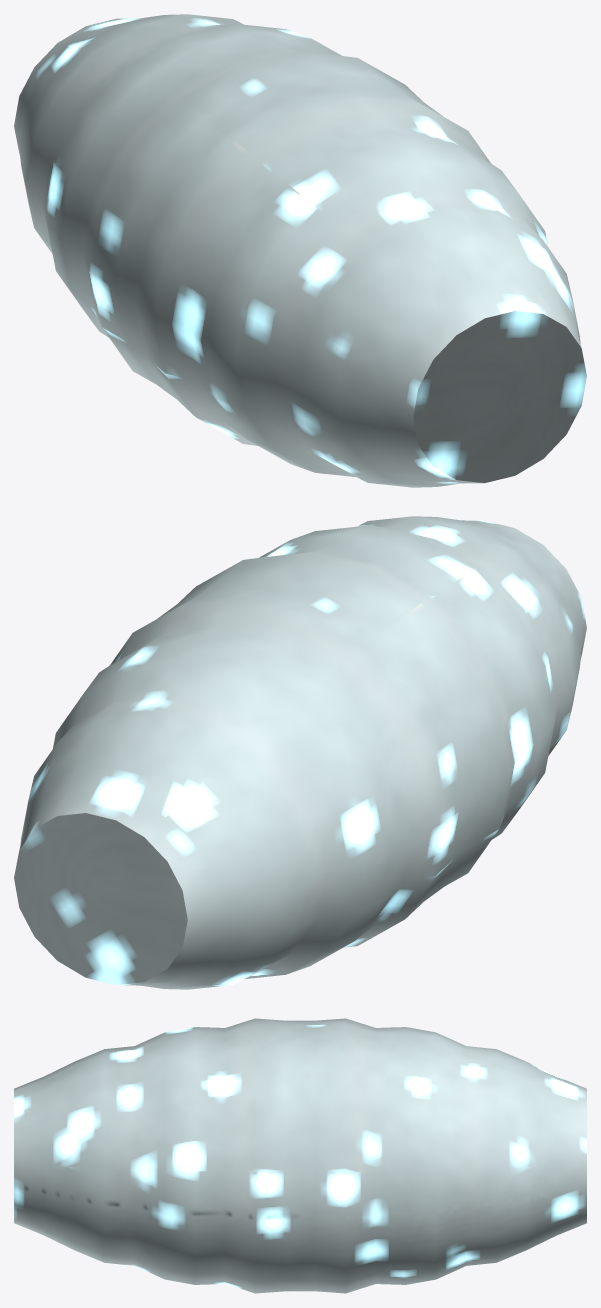
Rendered from salpa_maxima.glb.
3 renders of one model, top to bottom at view 1: azimuth 30°, elevation 25°; view 2: azimuth 150°, elevation 25°; view 3: azimuth 270°, elevation 25°, orthographic. The views are drawn at different scales.
Parts seen in each view (by area): view 1: salpa_maxima; view 2: salpa_maxima; view 3: salpa_maxima.
Boxes of the visible parts, <box> form: salpa_maxima: <box>14,14,586,487</box>; salpa_maxima: <box>14,516,586,989</box>; salpa_maxima: <box>14,1018,586,1293</box>.
Size of the model in its own units: 0.2272 by 0.2058 by 0.4416.
Materials: 2 (2 with a texture image).
